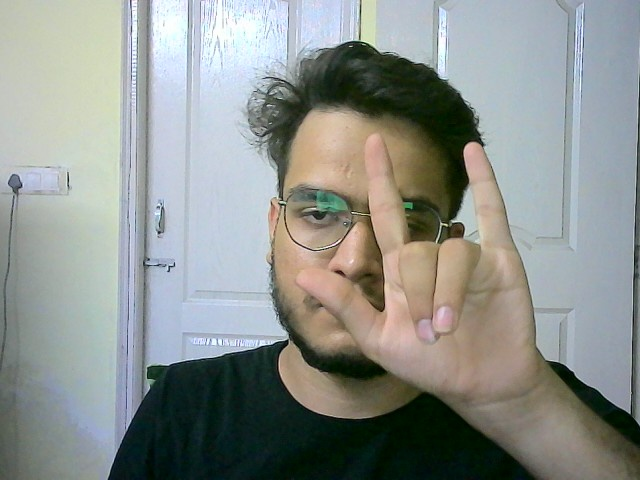I Love You: (300, 130, 543, 408)
